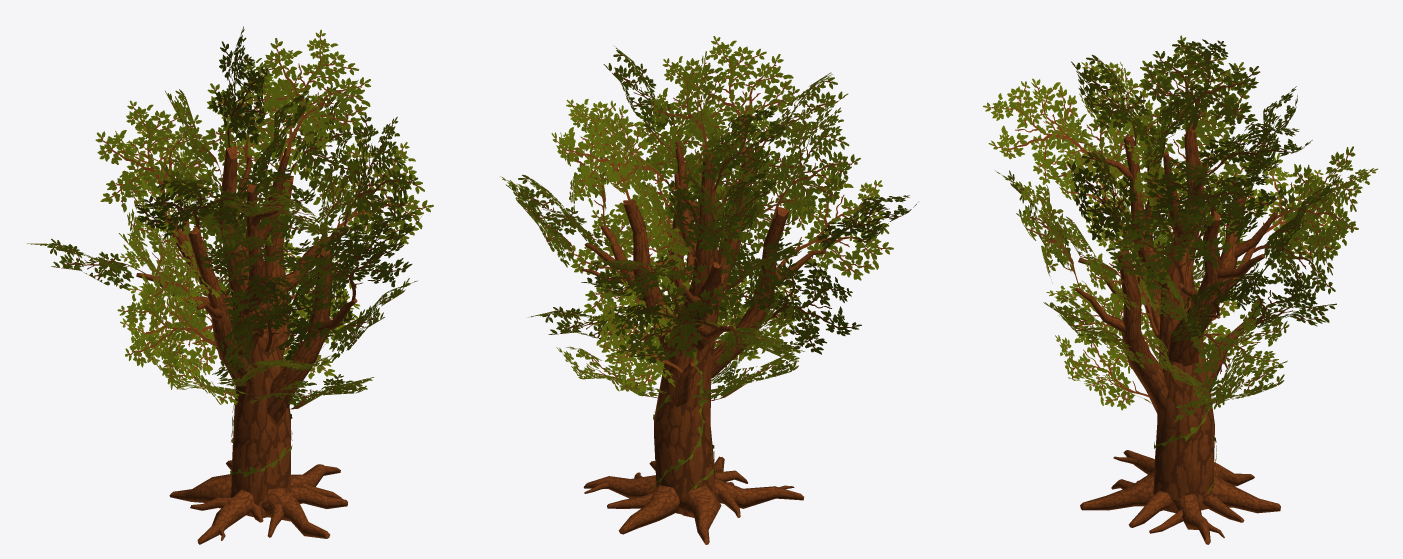
The model's file is tree_01.fbx.
3 renders of one model, left to right at view 1: azimuth 30°, elevation 25°; view 2: azimuth 150°, elevation 25°; view 3: azimuth 270°, elevation 25°, orthographic.
Parts seen in each view (by area): view 1: wood_a.001; view 2: wood_a.001; view 3: wood_a.001.
Boxes of the visible parts, x1,y1,x2,y2 form: wood_a.001: (27,26,433,544); wood_a.001: (500,36,918,544); wood_a.001: (983,35,1377,544).
Bounding box in the file's own units: 902 × 1114 × 863.
2 materials, 2 textured.
